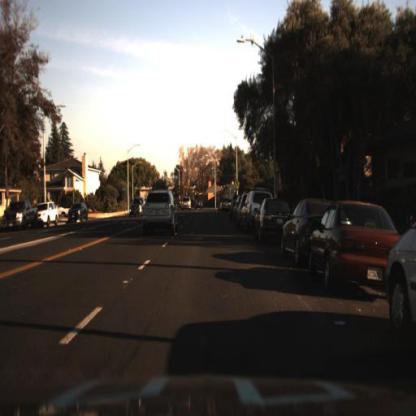car: (309, 202, 401, 296), (280, 195, 337, 269), (388, 211, 416, 341), (142, 189, 179, 240), (255, 196, 291, 242), (5, 200, 39, 232), (36, 201, 61, 228), (68, 202, 91, 224), (128, 197, 146, 220), (57, 199, 72, 225), (193, 194, 206, 213), (182, 196, 193, 212)
